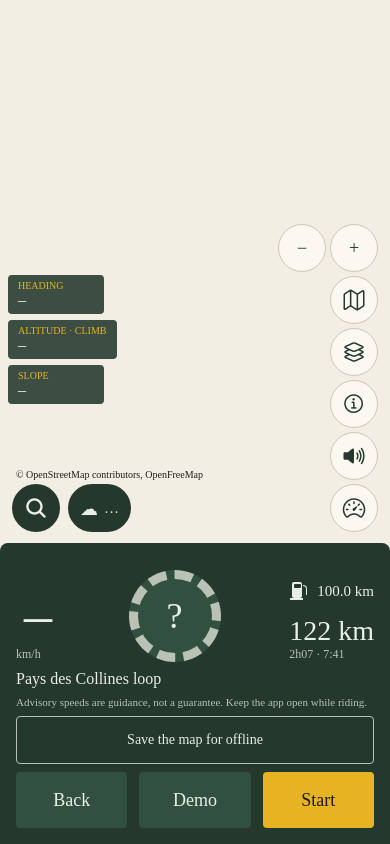
Test: a stretch longer than 80 % of the range is a warning on the card
Click the button with test id "fuel-chip".
click(332, 591)  # box x1=289 y1=567 x2=374 y2=615
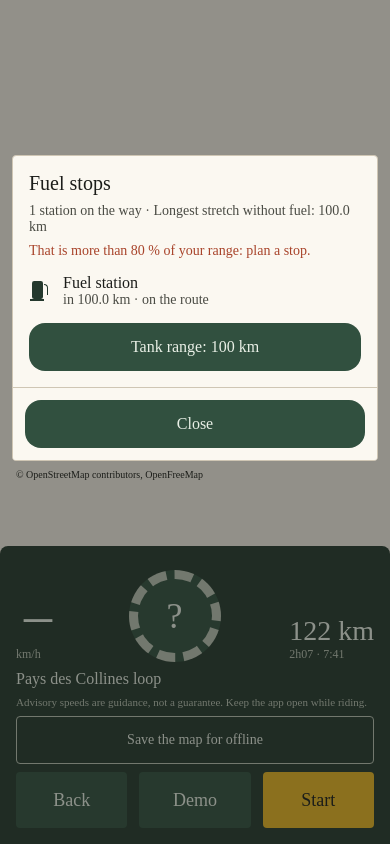
Expected: the text "That is more than 80 % of your range: plan a stop." is shown, x1=29 y1=243 x2=310 y2=258
